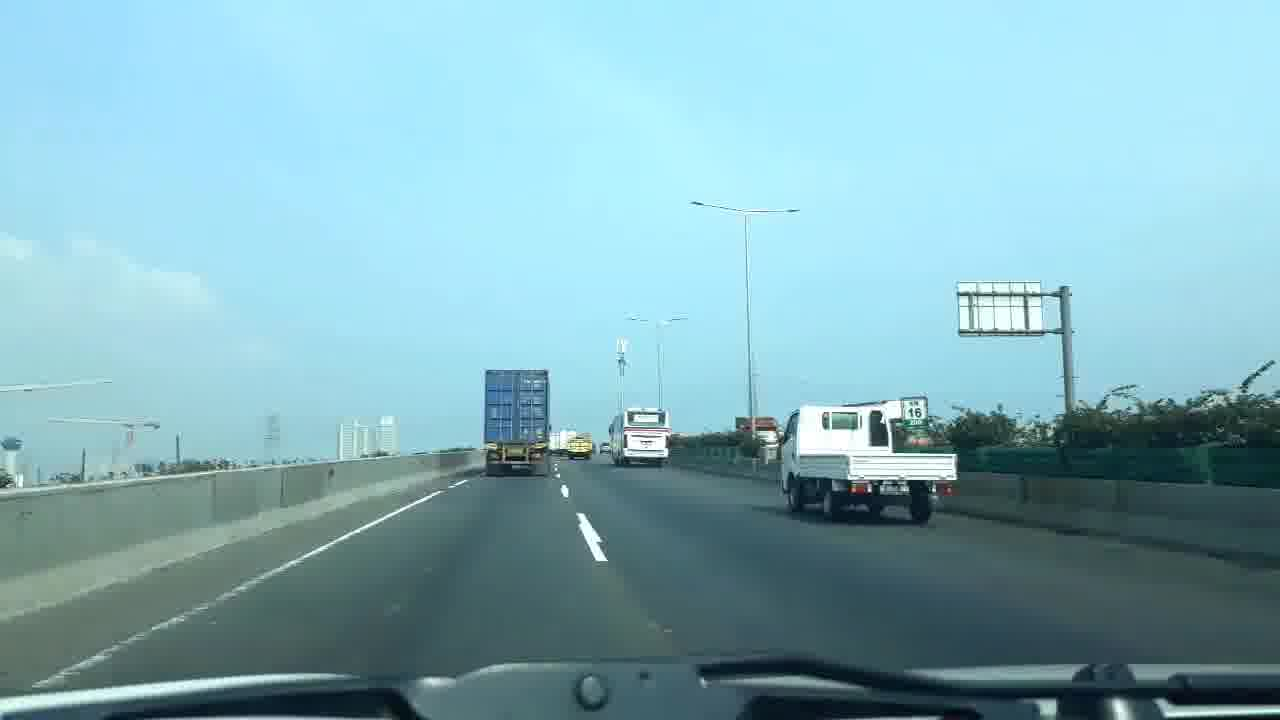plate_positive: (880, 484, 911, 496)
